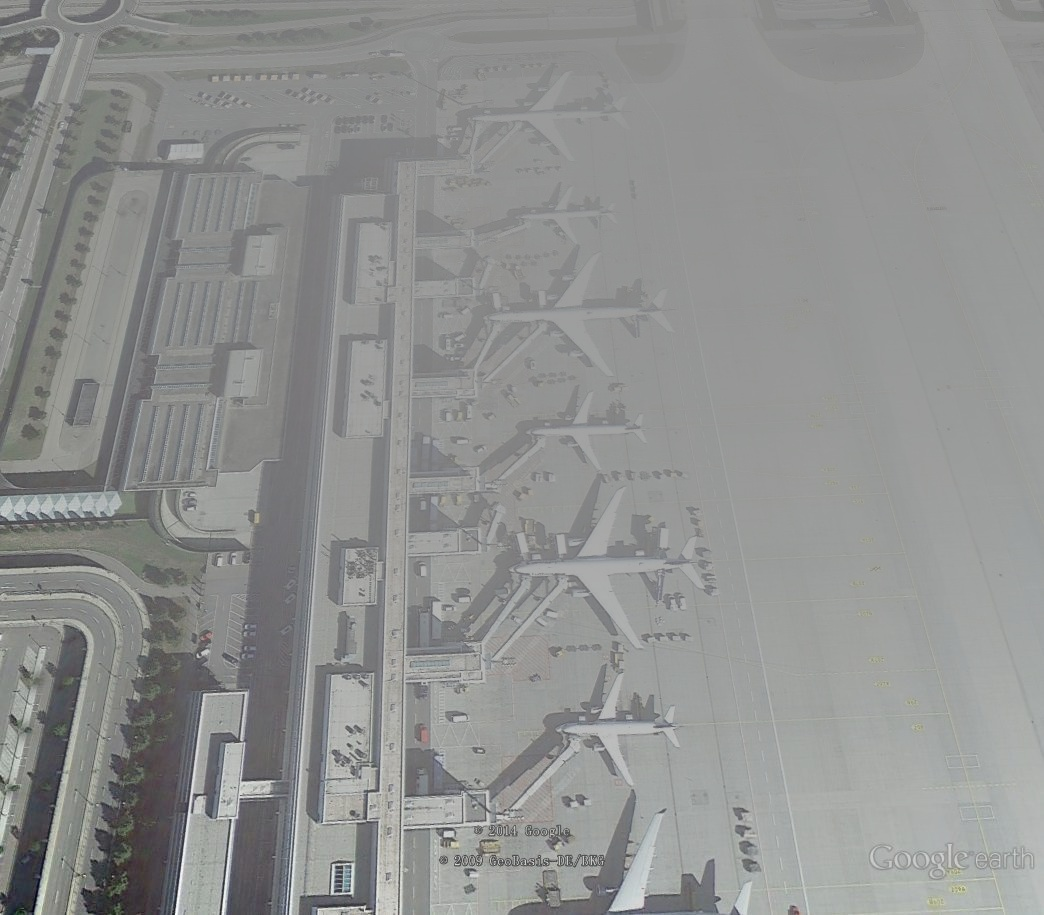aircraft: (504, 478, 717, 657), (481, 249, 684, 382), (544, 664, 691, 798), (466, 69, 639, 169), (513, 384, 658, 481), (511, 178, 630, 247)
